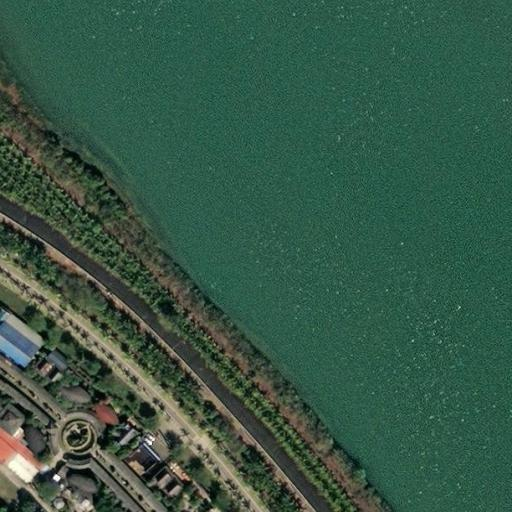building: (0, 364, 157, 512), (0, 386, 134, 512), (0, 447, 35, 483), (0, 309, 35, 343), (57, 374, 92, 408), (88, 393, 123, 425), (0, 321, 28, 360), (142, 466, 170, 494), (113, 420, 141, 447), (0, 399, 17, 433), (40, 347, 60, 367)
